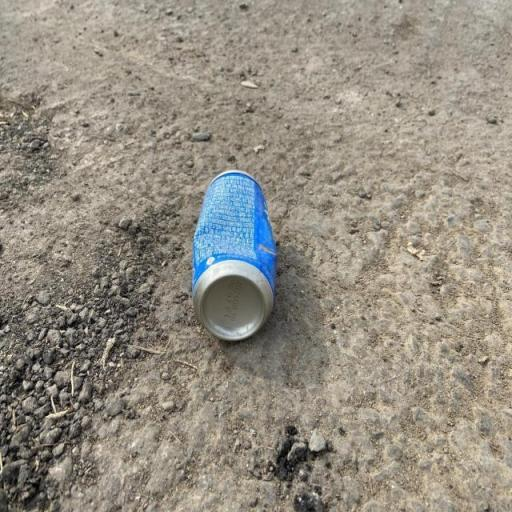metal: (186, 148, 296, 355)
